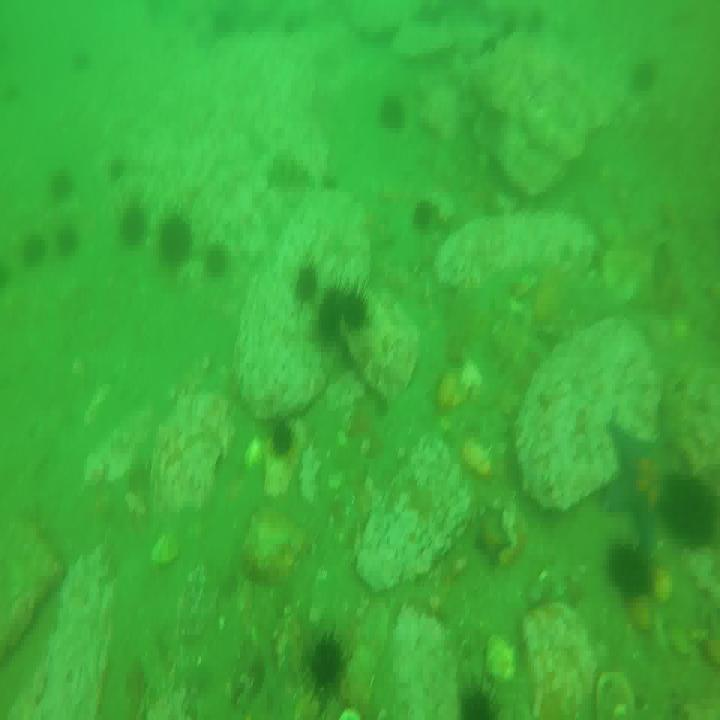echinus: (670, 472, 718, 550), (307, 632, 351, 692), (610, 538, 650, 594), (318, 287, 350, 355), (457, 674, 502, 720), (158, 216, 194, 272), (121, 200, 148, 246), (375, 96, 408, 132), (342, 286, 369, 330), (293, 264, 321, 305), (634, 53, 660, 90), (55, 220, 81, 257), (412, 202, 441, 233), (270, 418, 293, 456), (206, 241, 228, 279), (49, 172, 76, 201), (23, 235, 45, 268), (110, 156, 129, 185)
scallop: (262, 449, 294, 501)
starfish: (604, 419, 686, 548), (474, 507, 510, 564)
